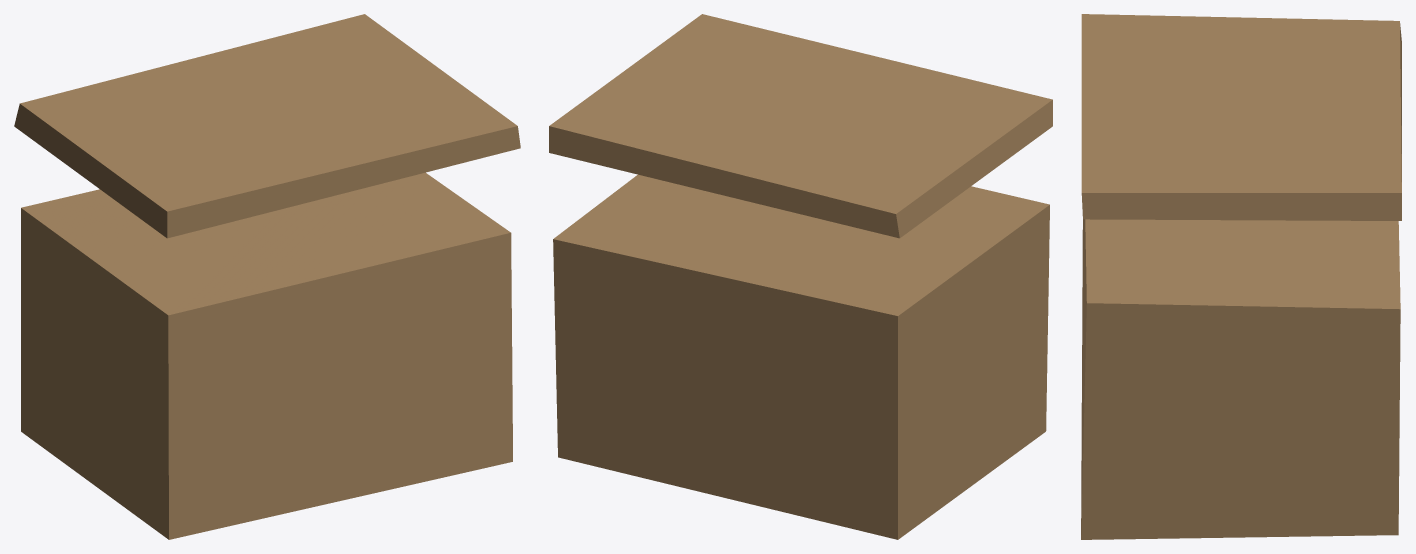
Rendered from crate_wooden.glb.
The picture shows the model from 3 angles, left to right: view 1: azimuth 30°, elevation 25°; view 2: azimuth 150°, elevation 25°; view 3: azimuth 270°, elevation 25°; orthographic projection. The views are drawn at different scales.
Parts seen in each view (by area): view 1: crate_wooden; view 2: crate_wooden; view 3: crate_wooden.
Boxes of the visible parts, x1,y1,x2,y2 form: crate_wooden: (14, 14, 520, 539); crate_wooden: (549, 14, 1052, 539); crate_wooden: (1081, 14, 1401, 539).
Size of the model in its own units: 0.4142 by 0.3734 by 0.3106.
